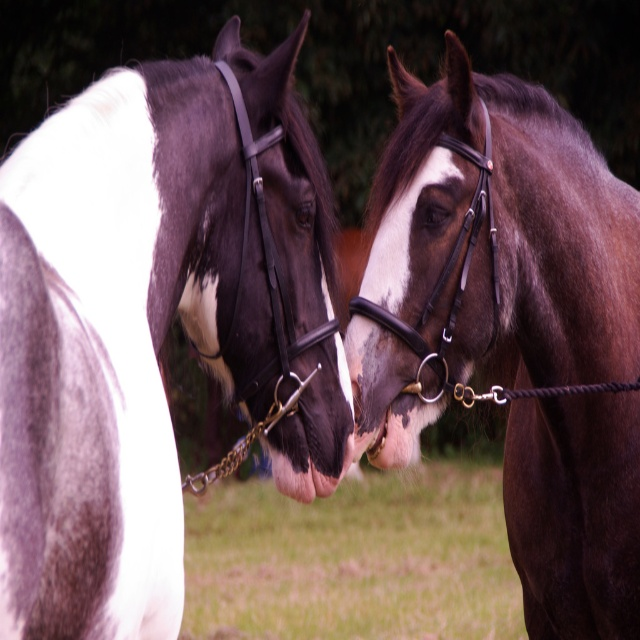Horse: (0, 11, 356, 640), (342, 29, 640, 640)
